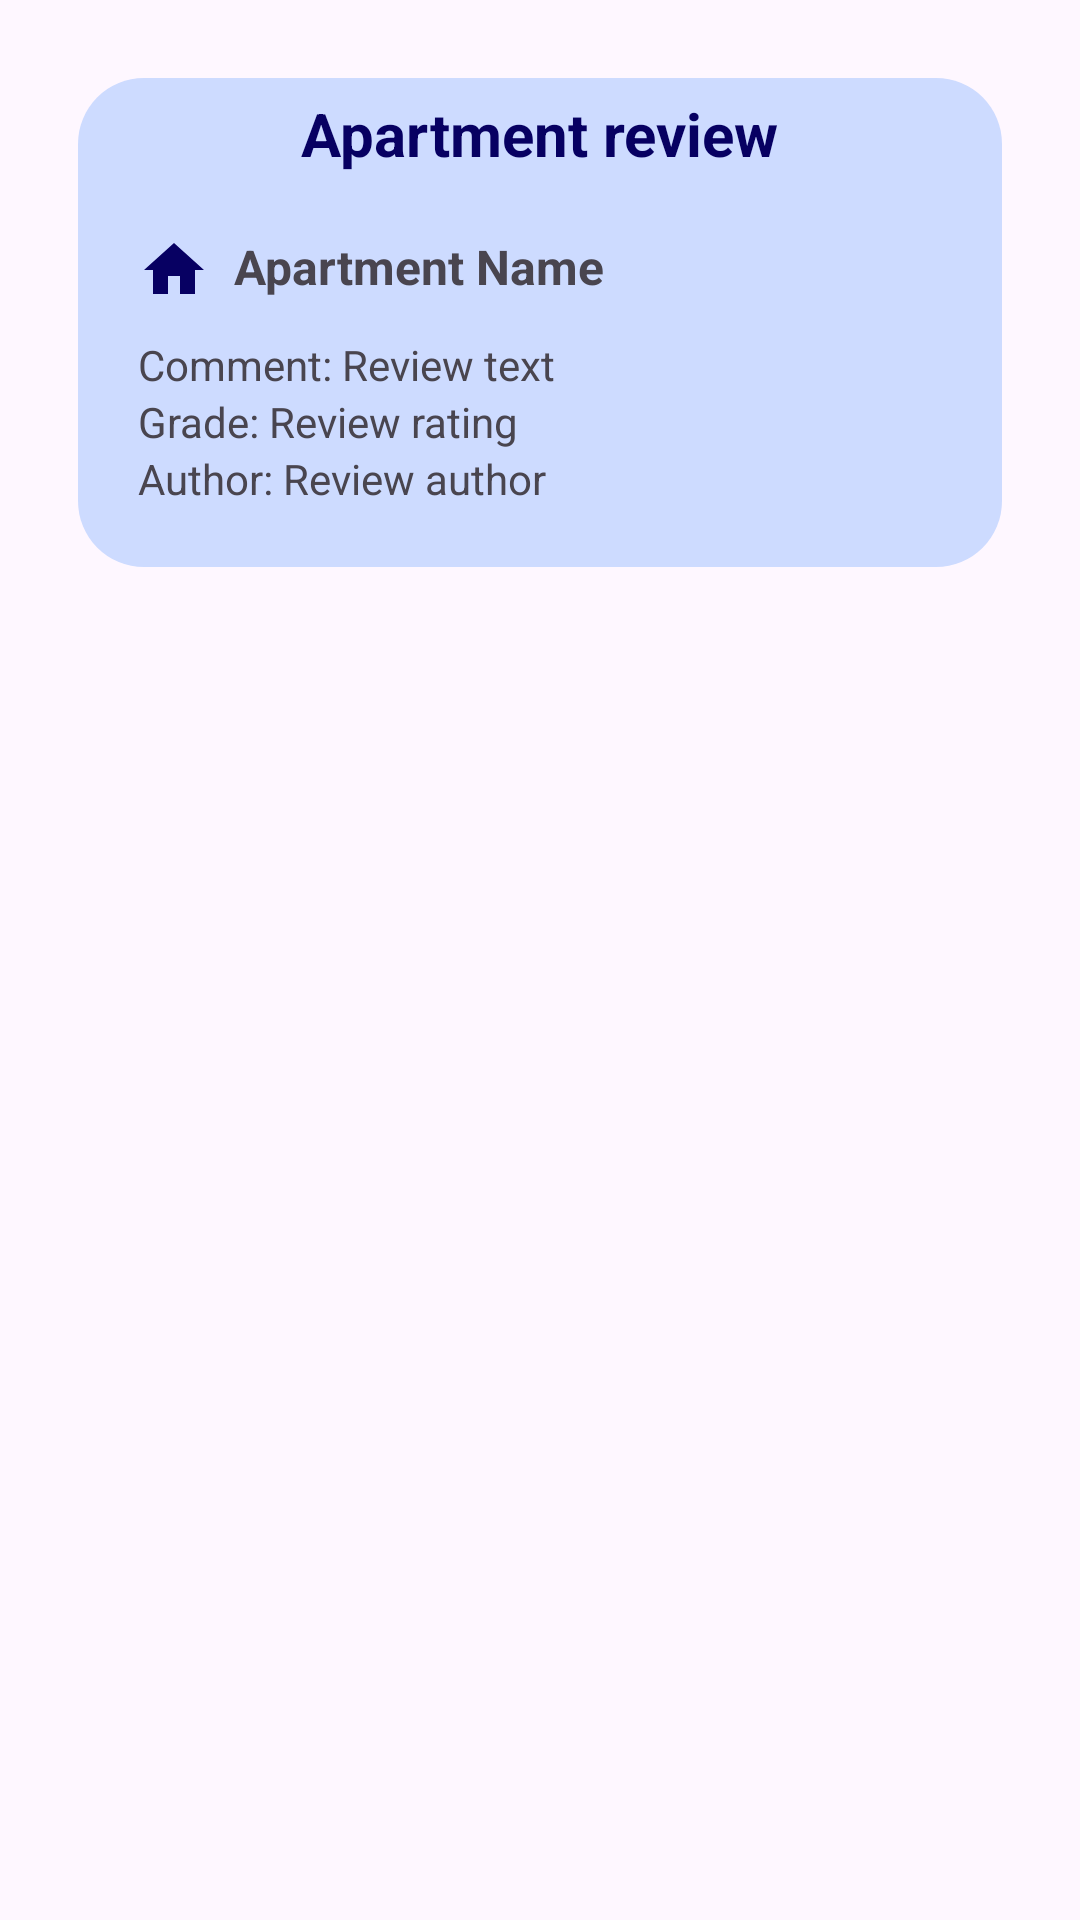

Icons on this 1080w x 1920h Android screen, each with the point to tap as (x,y):
Home Icon: (174,268)
